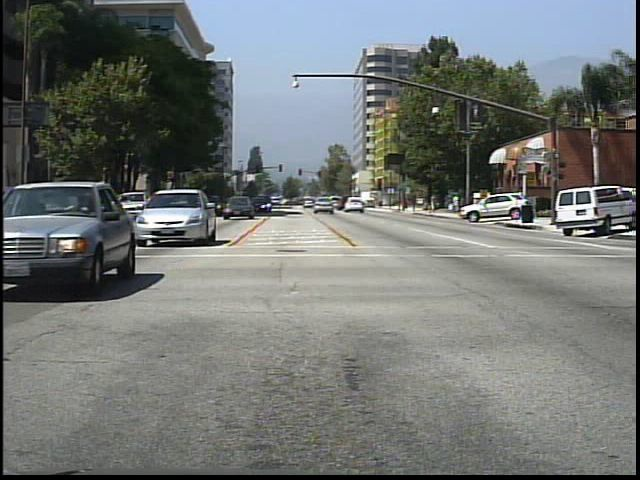person: (451, 190, 465, 219), (429, 191, 440, 214)
